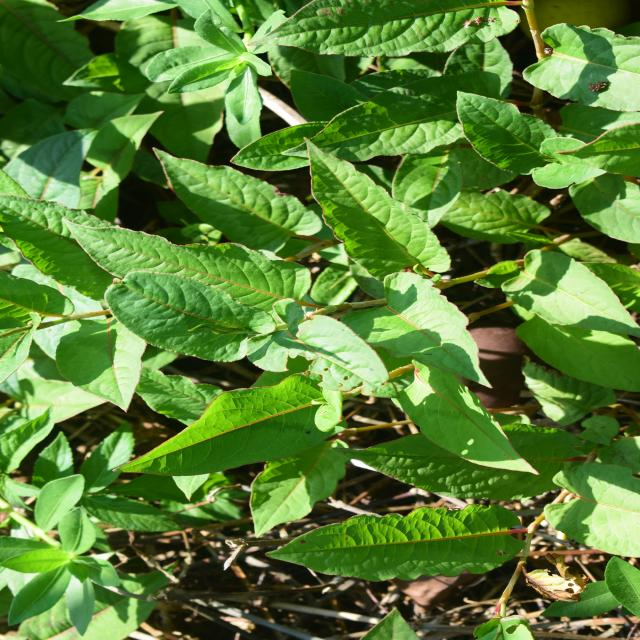Chinese_knotweed: (150, 66, 467, 494)
